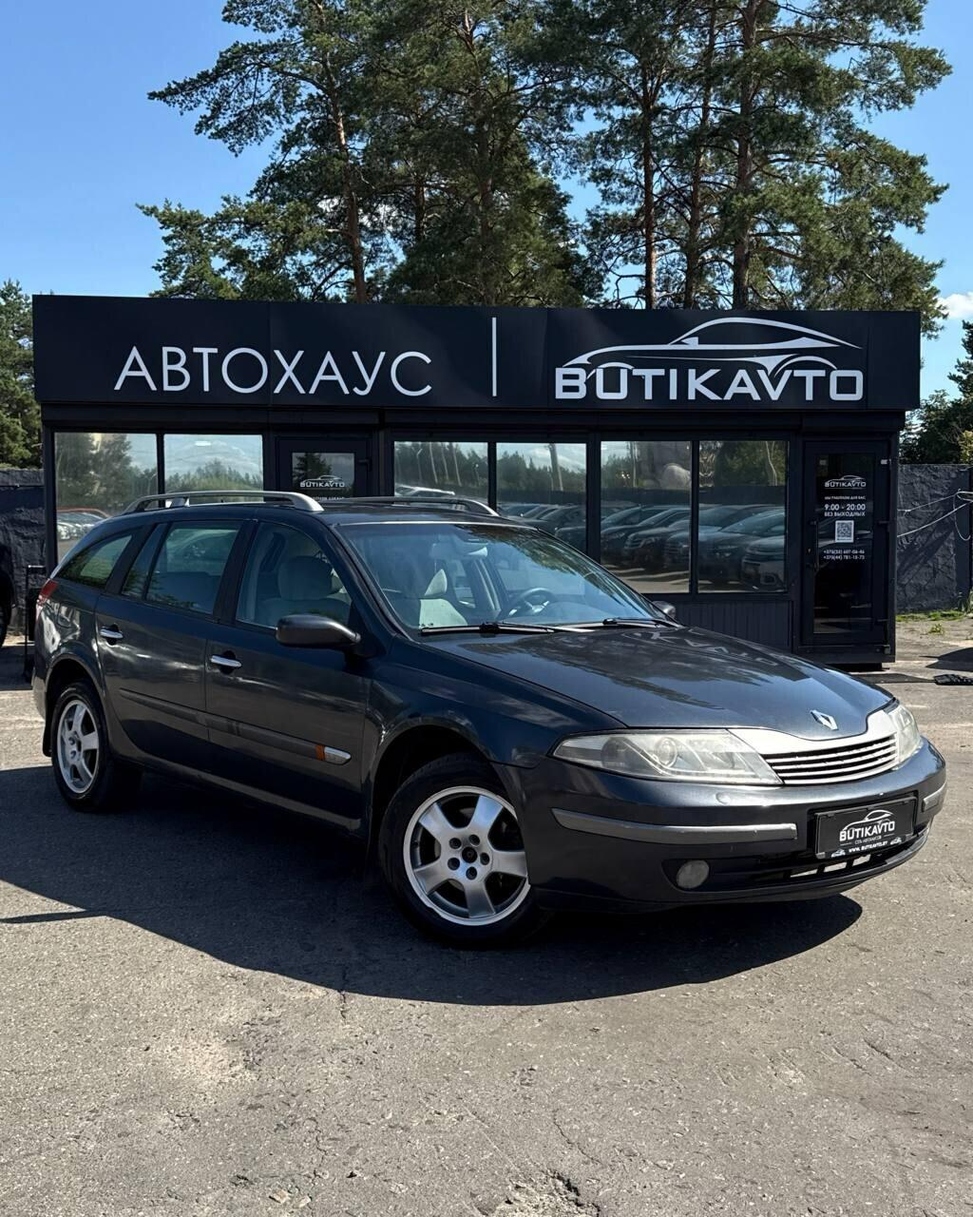Laguna_2001-2005: (32, 491, 943, 948)
